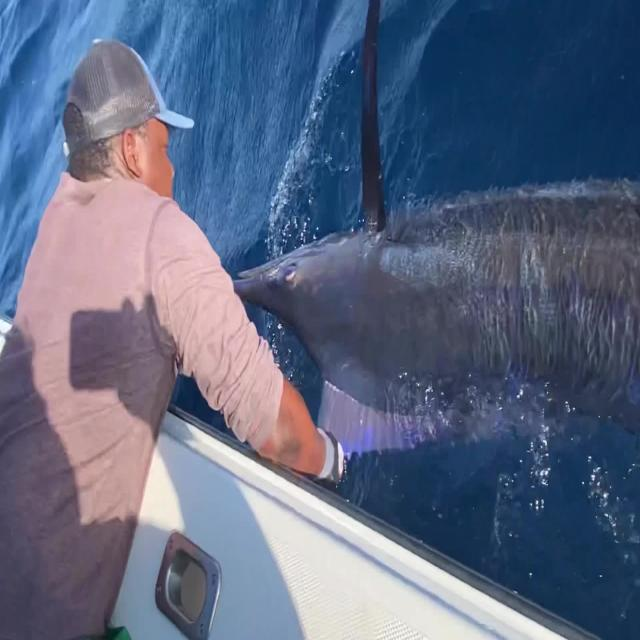Liberacion segura: (231, 2, 640, 463)
